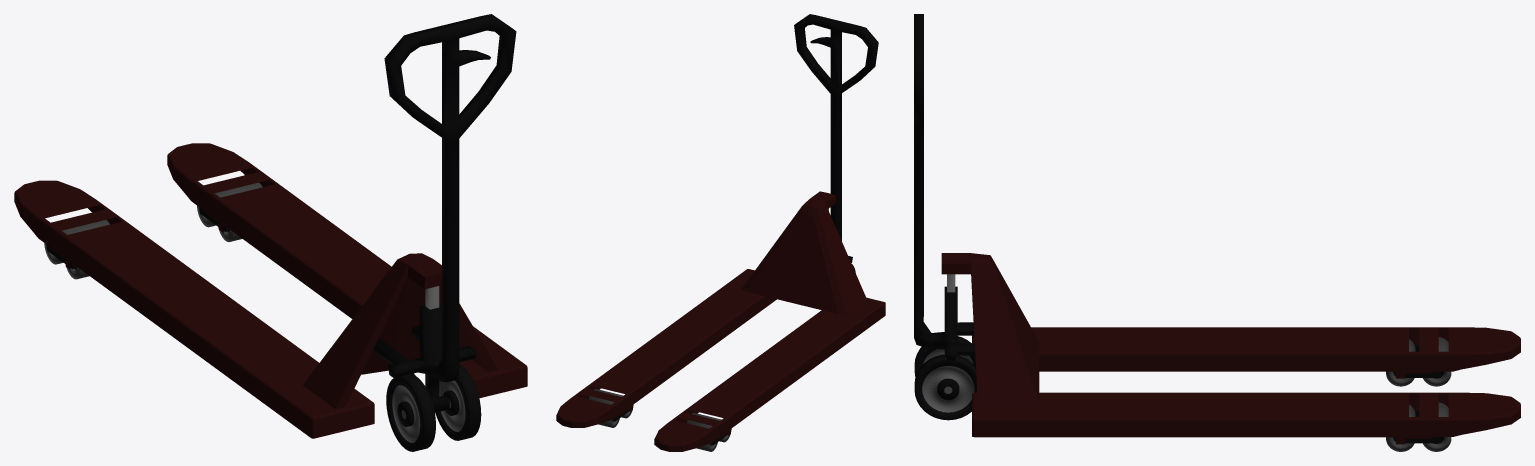
3 renders of one model, left to right at view 1: azimuth 30°, elevation 25°; view 2: azimuth 150°, elevation 25°; view 3: azimuth 270°, elevation 25°, orthographic. The views are drawn at different scales.
Visible parts, largest first — view 1: Cube, Cube.003, Cylinder.002 (×2), Cylinder (×2), Cylinder.001, Cylinder.000; view 2: Cube, Cube.003, Cylinder.000, Cylinder.001; view 3: Cube, Cube.003, Cylinder (×2), Cylinder.000, Cylinder.001.
Part boxes in pixels (left/top/right/bottom): Cube: left=14, top=143, right=527, bottom=438; Cube.003: left=372, top=14, right=516, bottom=412; Cylinder.002 (×2): left=386, top=374, right=435, bottom=451; Cylinder (×2): left=435, top=364, right=481, bottom=440; Cylinder.001: left=197, top=182, right=262, bottom=241; Cylinder.000: left=44, top=220, right=109, bottom=279; Cube: left=556, top=191, right=885, bottom=451; Cube.003: left=794, top=14, right=878, bottom=262; Cylinder.000: left=687, top=413, right=731, bottom=451; Cylinder.001: left=589, top=389, right=633, bottom=427; Cube: left=941, top=253, right=1520, bottom=444; Cube.003: left=914, top=14, right=975, bottom=366; Cylinder (×2): left=914, top=354, right=977, bottom=420; Cylinder.000: left=1386, top=337, right=1451, bottom=386; Cylinder.001: left=1386, top=402, right=1451, bottom=451.
Size of the model in its own units: 0.5769 by 1.09 by 1.6.
